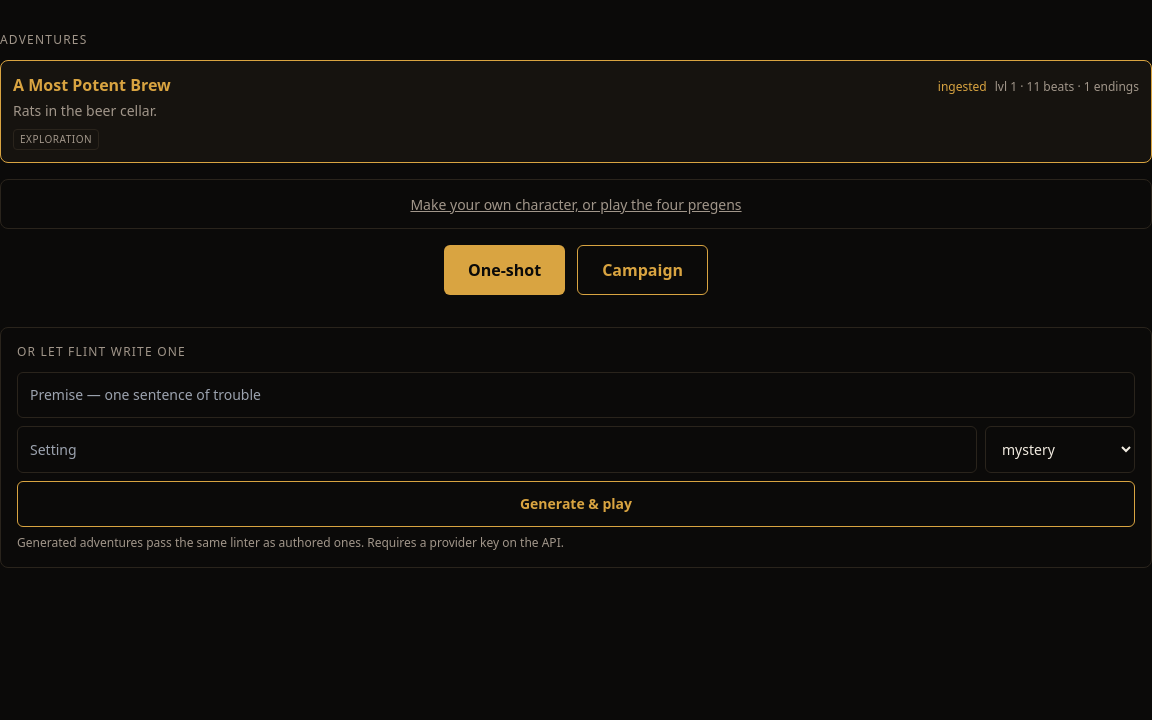
Scenario: making a character › will not let a player take more skills than the class allows
The image size is (1152, 720).
What coordinates should you click on to do the following:
click the text "A Most Potent Brew"
I would click on:
 (92, 85)
Its box is [13, 73, 171, 97].
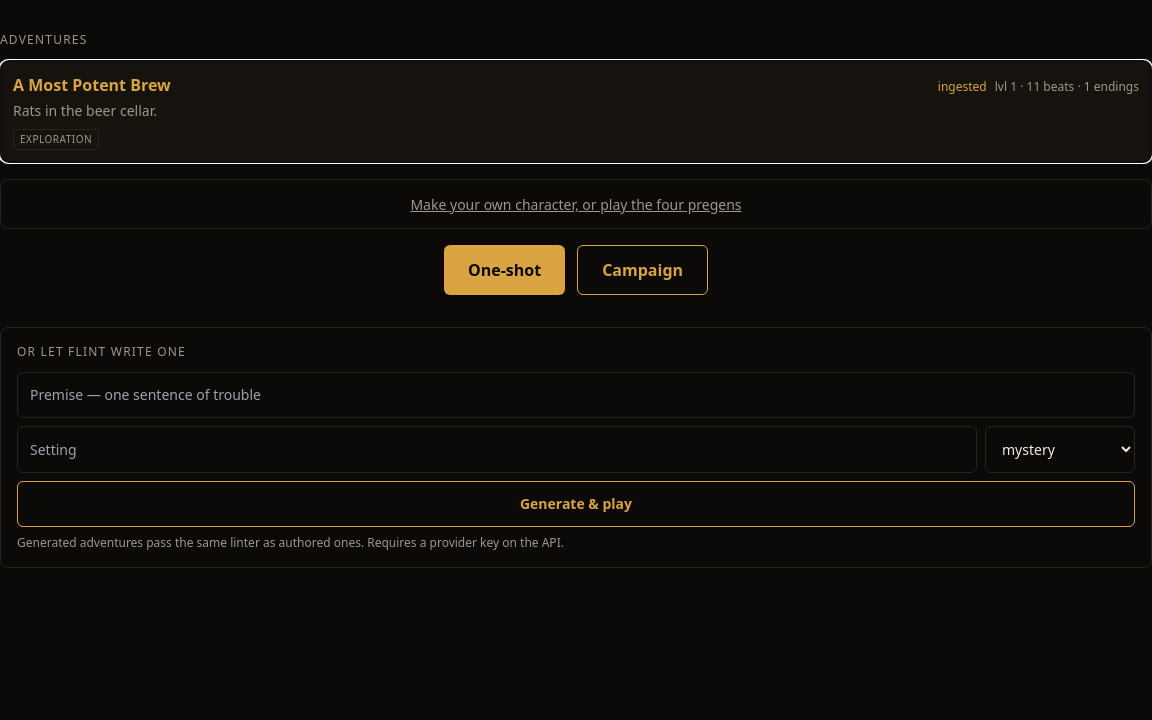
What coordinates should you click on to do the following:
click the button "Make your own character, or play the four pregens"
I would click on:
 (576, 205)
Its box is [410, 195, 742, 215].
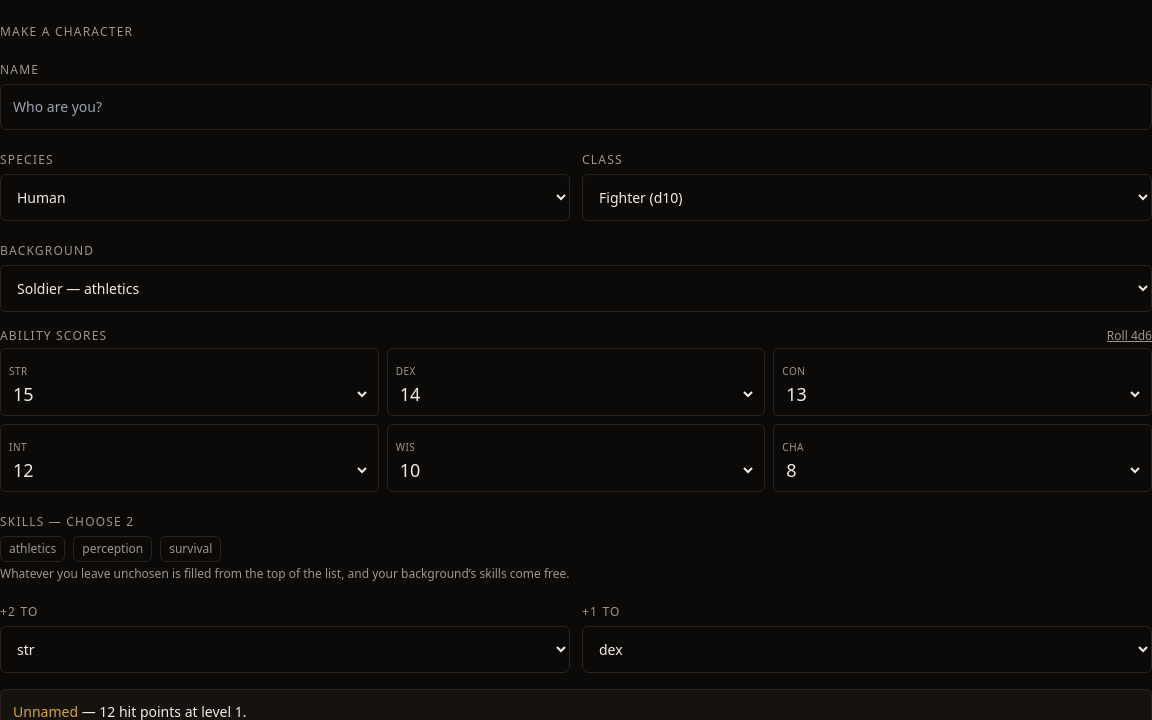
expect the field with placeholder "Who are you?" is shown: met, box [0, 84, 1151, 130]
What coordinates should you click on to do the following:
click the button "athletics"
I would click on:
 (33, 549)
Its box is [0, 536, 65, 562].
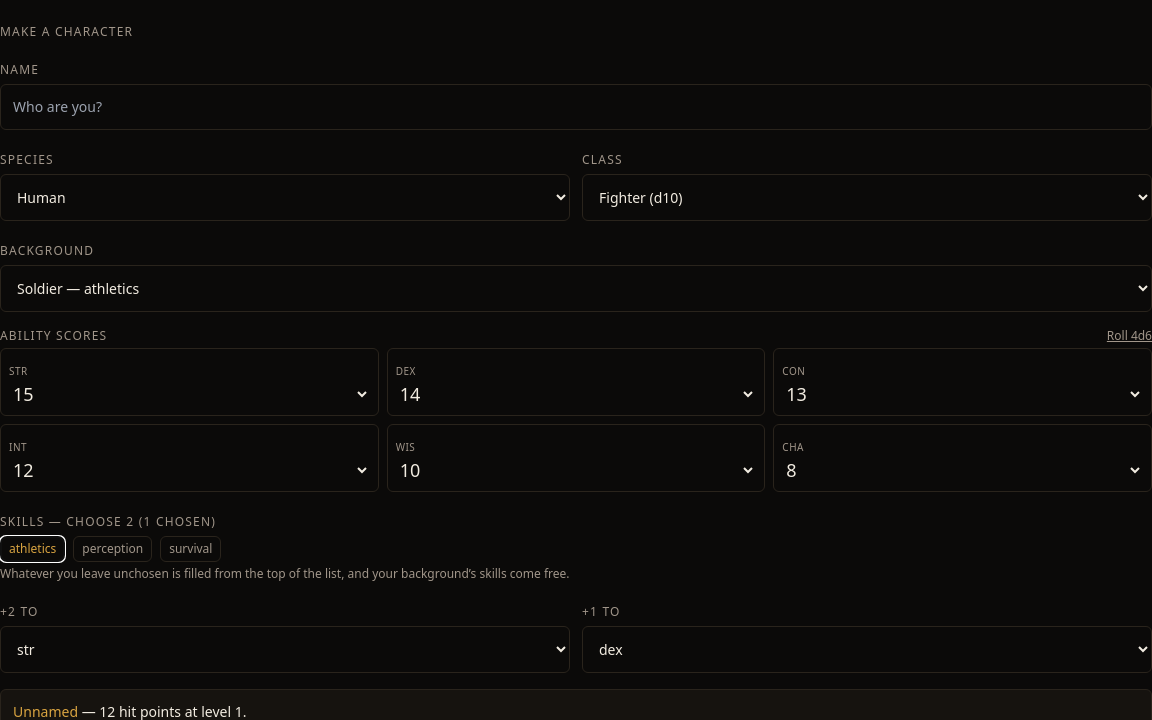
What coordinates should you click on to do the following:
click the button "perception"
I would click on:
 (113, 549)
Its box is [73, 536, 152, 562].
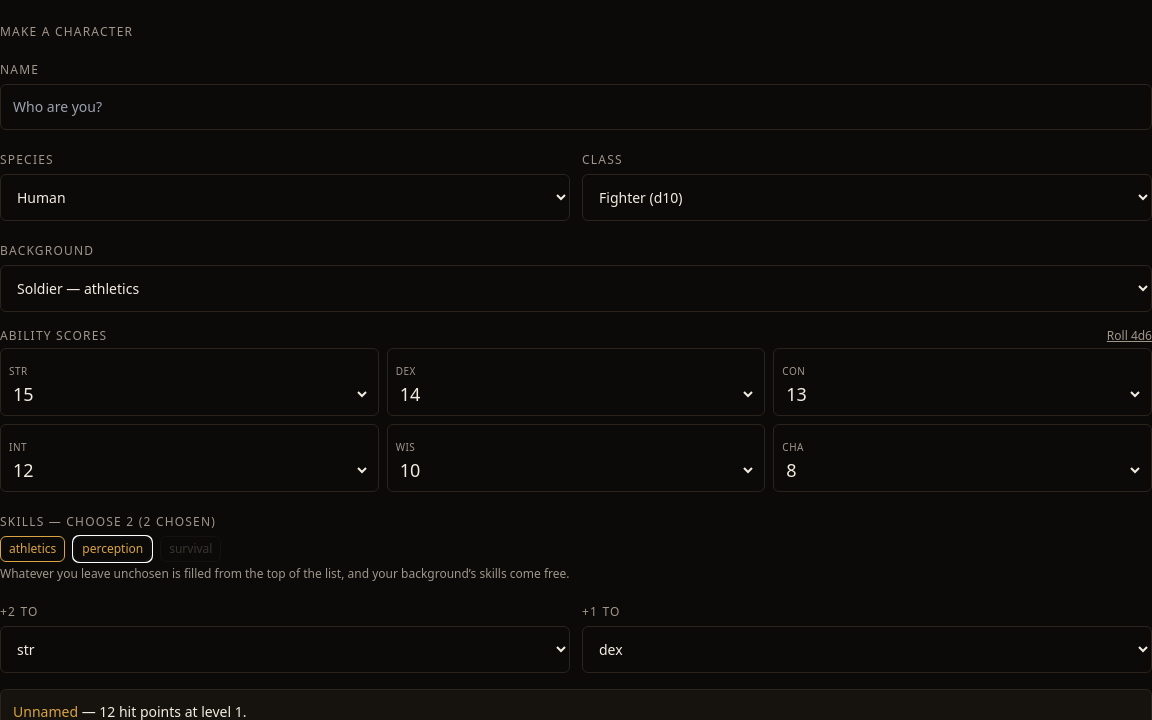
expect the text "Skills — choose 2 (2 chosen)" is shown: met, box [0, 513, 216, 530]
expect the button "survival" is disabled: met, box [160, 536, 222, 562]
